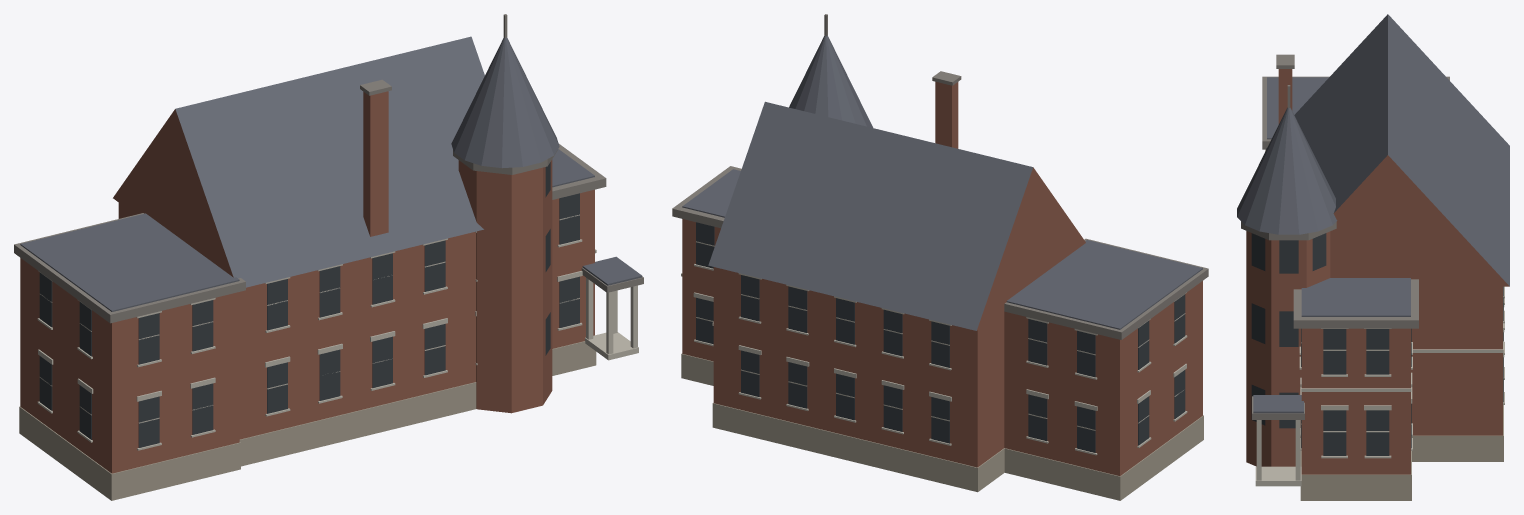
Rendered from high_house_2021_prairie__draft_1904.glb.
3 renders of one model, left to right at view 1: azimuth 30°, elevation 25°; view 2: azimuth 150°, elevation 25°; view 3: azimuth 270°, elevation 25°, orthographic. The views are drawn at different scales.
Parts seen in each view (by area): view 1: high_house_2021_prairie__draft_1904; view 2: high_house_2021_prairie__draft_1904; view 3: high_house_2021_prairie__draft_1904.
Boxes of the visible parts, x1=… form: high_house_2021_prairie__draft_1904: x1=14, y1=14, x2=643, y2=500; high_house_2021_prairie__draft_1904: x1=672, y1=14, x2=1208, y2=500; high_house_2021_prairie__draft_1904: x1=1237, y1=14, x2=1509, y2=500.
Size of the model in its own units: 25.85 by 17.7 by 11.86.
